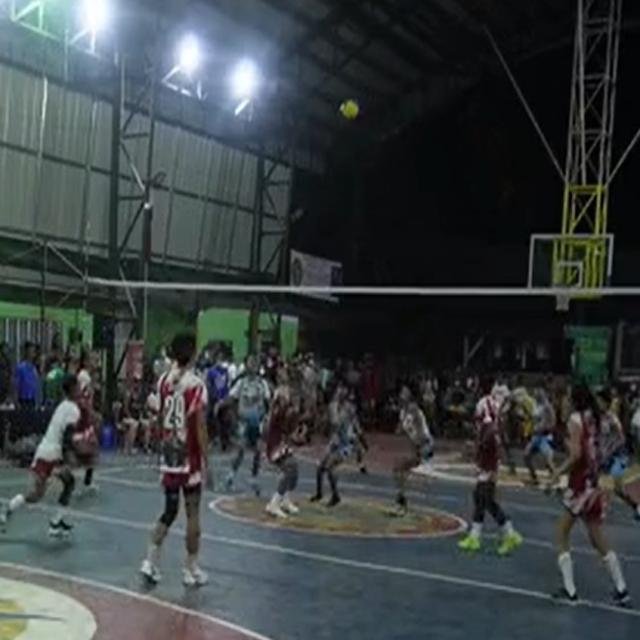volleyball: (339, 100, 358, 120)
